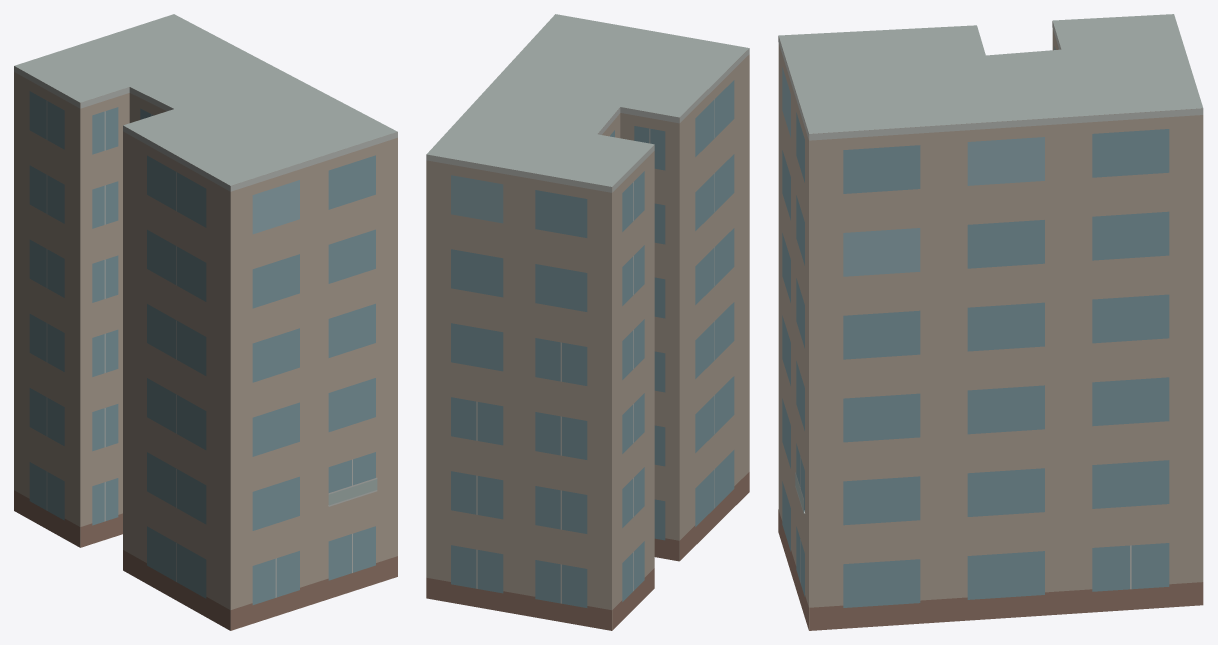
Rendered from survey-upis-32563727.glb.
3 renders of one model, left to right at view 1: azimuth 30°, elevation 25°; view 2: azimuth 150°, elevation 25°; view 3: azimuth 270°, elevation 25°, orthographic. The views are drawn at different scales.
Parts seen in each view (by area): view 1: survey-upis-32563727.tmp; view 2: survey-upis-32563727.tmp; view 3: survey-upis-32563727.tmp.
Part boxes in pixels (x1,y1,x2,y2): survey-upis-32563727.tmp: (14, 14, 397, 630); survey-upis-32563727.tmp: (426, 14, 749, 630); survey-upis-32563727.tmp: (778, 14, 1203, 630).
Size of the model in its own units: 9.49 by 18.3 by 14.19.
